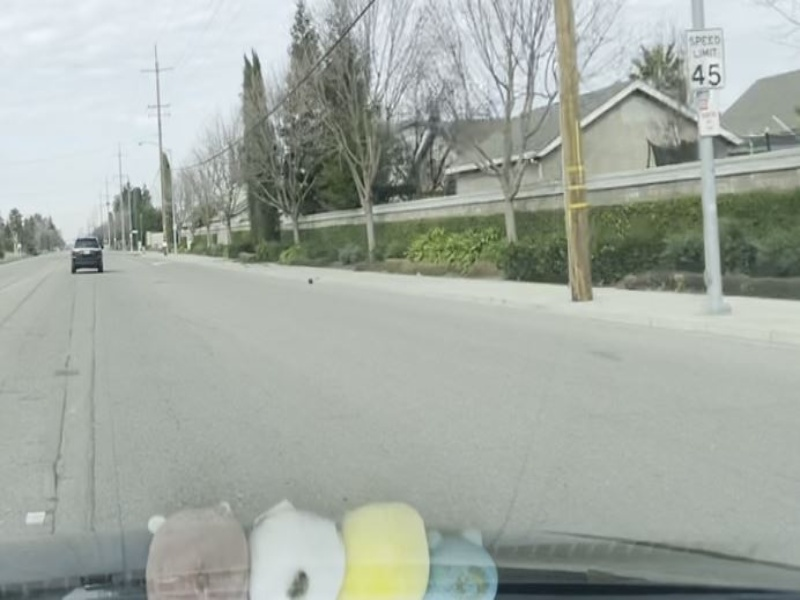speed limit sign: (681, 26, 731, 93)
